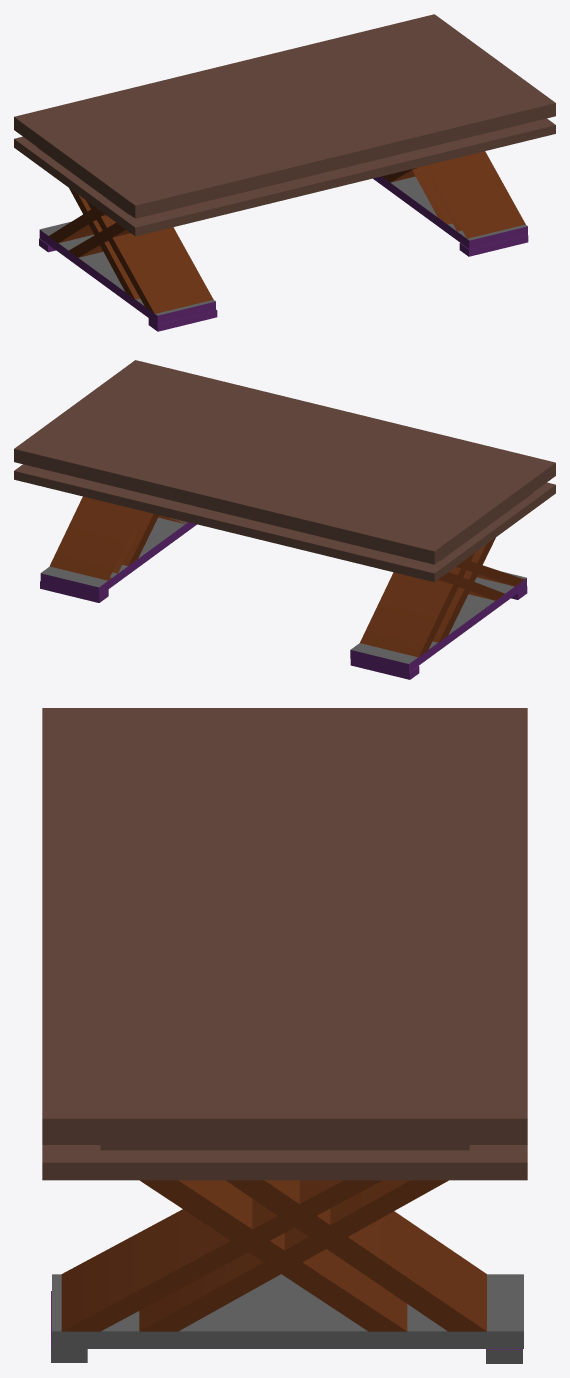
File: Table.fbx
The picture shows the model from 3 angles, top to bottom: view 1: azimuth 30°, elevation 25°; view 2: azimuth 150°, elevation 25°; view 3: azimuth 270°, elevation 25°; orthographic projection. The views are drawn at different scales.
Parts seen in each view (by area): view 1: Empty_Mesh; view 2: Empty_Mesh; view 3: Empty_Mesh.
Part boxes in pixels (x1,y1,x2,y2): Empty_Mesh: [14, 14, 555, 331]; Empty_Mesh: [14, 360, 555, 679]; Empty_Mesh: [42, 708, 527, 1363].
Bounding box in the file's own units: 734 × 225 × 367.
